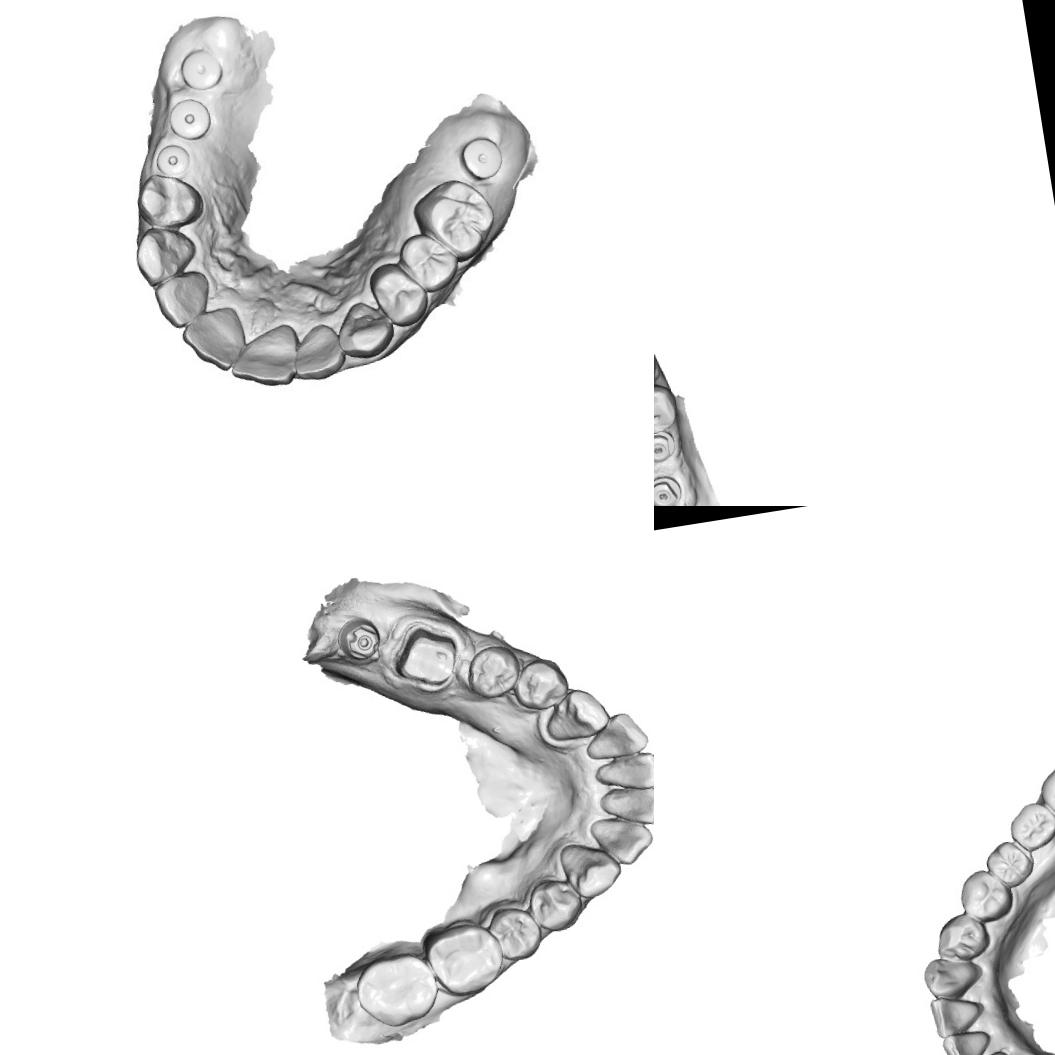canine: (557, 836, 626, 904), (540, 683, 614, 744), (132, 222, 196, 290), (336, 296, 394, 356), (920, 951, 986, 1002)
implant: (175, 43, 229, 99), (456, 132, 507, 188), (333, 612, 385, 666), (165, 93, 214, 144), (148, 137, 196, 184), (654, 470, 687, 506), (654, 428, 678, 466)
incisor: (232, 326, 302, 394), (587, 810, 654, 871), (182, 306, 246, 368), (580, 708, 651, 762), (158, 269, 216, 328), (596, 779, 654, 832), (591, 749, 654, 797), (928, 990, 985, 1040), (292, 322, 344, 376), (940, 1027, 996, 1055)
molar: (410, 172, 498, 272), (350, 946, 444, 1034), (419, 918, 509, 1002), (982, 836, 1037, 893), (1004, 798, 1055, 854), (1034, 753, 1055, 827)
premolar: (132, 166, 206, 235), (368, 260, 430, 331), (462, 640, 525, 702), (485, 901, 546, 965), (525, 873, 587, 935), (509, 653, 572, 714), (956, 865, 1016, 926), (932, 910, 994, 966), (401, 232, 455, 292), (654, 379, 682, 440)
